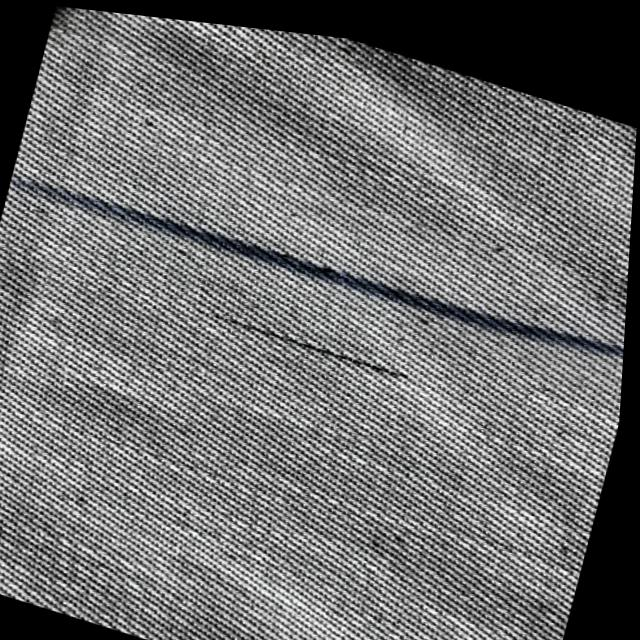Hole: (204, 292, 440, 381)
